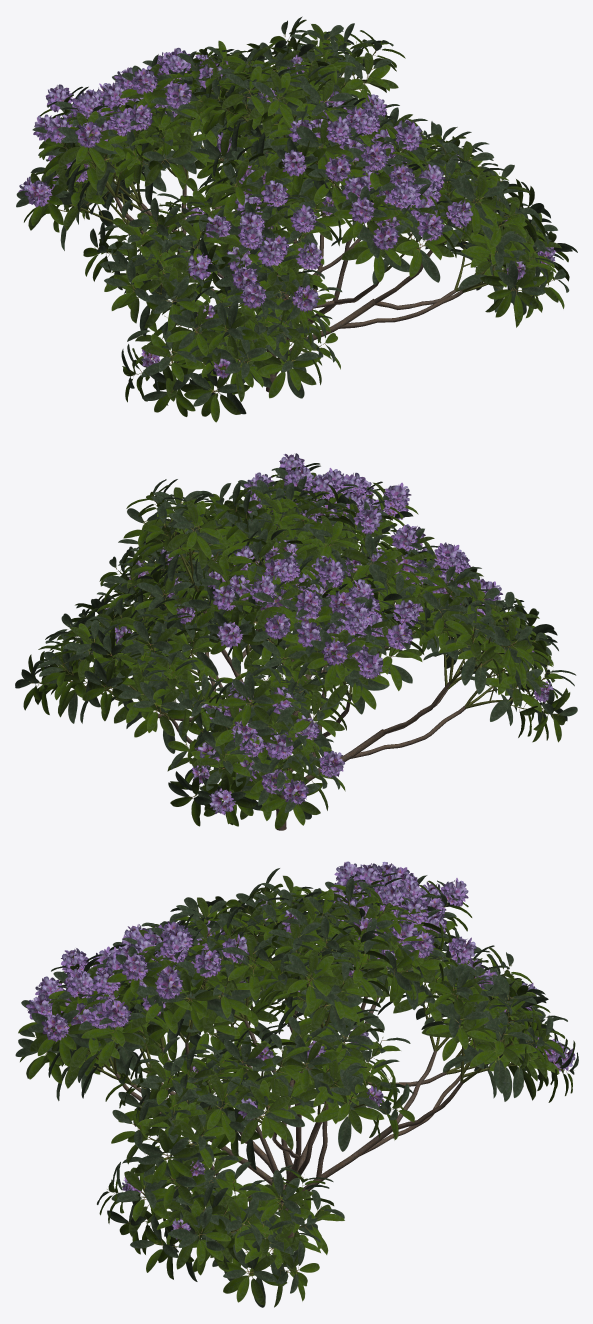
Rendered from rhodo.glb.
The picture shows the model from 3 angles, top to bottom: view 1: azimuth 30°, elevation 25°; view 2: azimuth 150°, elevation 25°; view 3: azimuth 270°, elevation 25°; orthographic projection. The views are drawn at different scales.
Parts seen in each view (by area): view 1: Leaf03_7, Leaf01_7, Leaf02_7, Flower02_7, Bark01_7, Branch01_7; view 2: Leaf03_7, Leaf01_7, Leaf02_7, Flower02_7, Branch01_7, Bark01_7; view 3: Leaf03_7, Leaf01_7, Leaf02_7, Flower02_7, Bark01_7, Branch01_7.
Part boxes in pixels (bbox=[...]): Leaf03_7: bbox=[16, 16, 577, 414]; Leaf01_7: bbox=[24, 31, 568, 422]; Leaf02_7: bbox=[28, 19, 569, 414]; Flower02_7: bbox=[18, 47, 556, 378]; Bark01_7: bbox=[114, 151, 463, 392]; Branch01_7: bbox=[57, 37, 550, 391]; Leaf03_7: bbox=[15, 463, 577, 819]; Leaf01_7: bbox=[23, 474, 570, 828]; Leaf02_7: bbox=[28, 466, 568, 819]; Flower02_7: bbox=[105, 453, 553, 815]; Branch01_7: bbox=[35, 494, 553, 800]; Bark01_7: bbox=[158, 591, 465, 830]; Leaf03_7: bbox=[15, 868, 578, 1307]; Leaf01_7: bbox=[18, 883, 572, 1302]; Leaf02_7: bbox=[26, 866, 575, 1307]; Flower02_7: bbox=[26, 861, 575, 1239]; Bark01_7: bbox=[115, 988, 462, 1237]; Branch01_7: bbox=[47, 903, 564, 1274].
Size of the model in its own units: 3.45 by 2.3 by 3.32.
8 materials, 8 textured.
